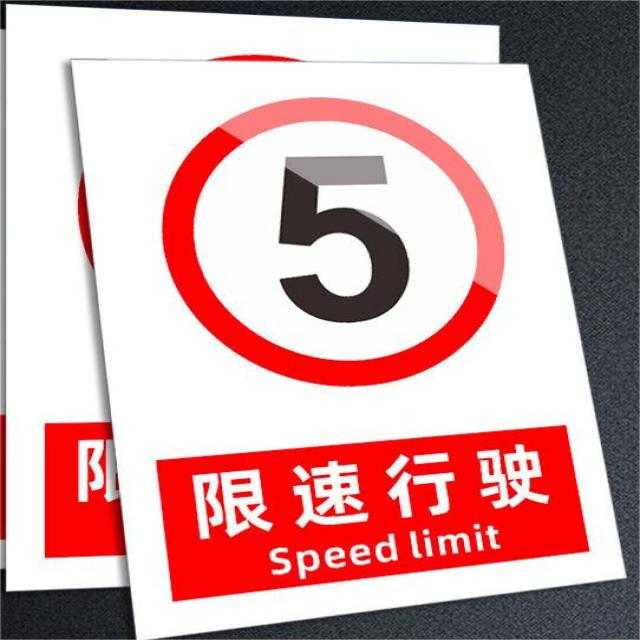speed limit 10: (164, 97, 505, 390)
